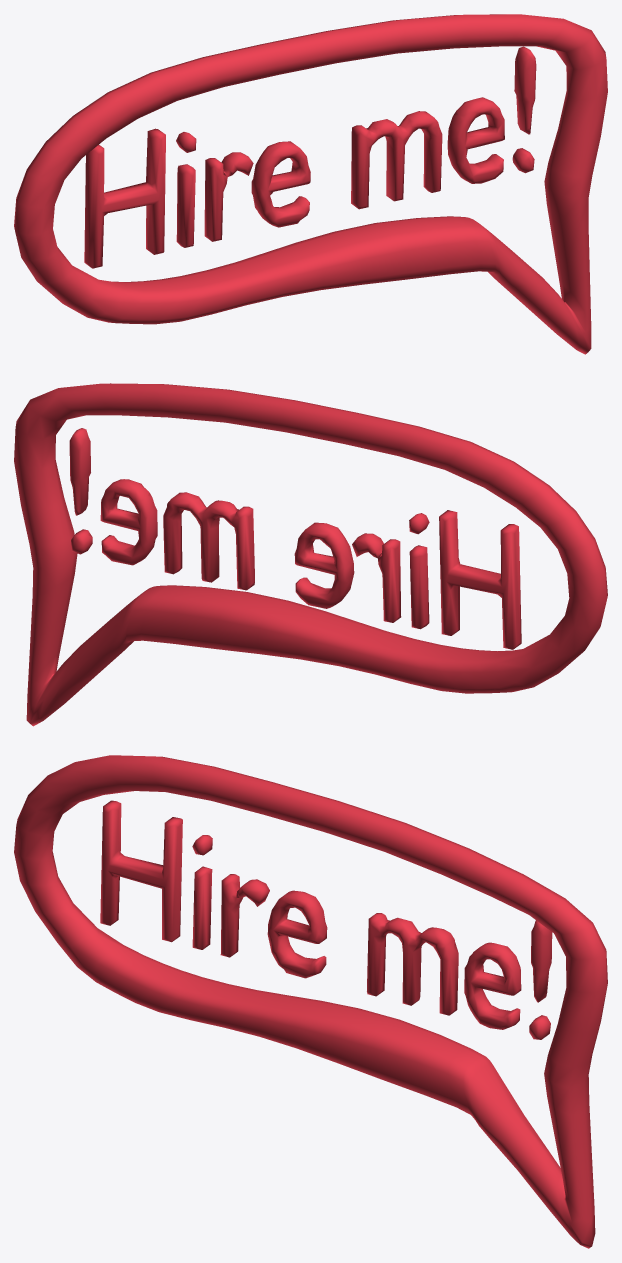
The model's file is Hire me Animation.fbx.
3 renders of one model, top to bottom at view 1: azimuth 30°, elevation 25°; view 2: azimuth 150°, elevation 25°; view 3: azimuth 330°, elevation 25°, orthographic.
Parts seen in each view (by area): view 1: Text; view 2: Text; view 3: Text.
Boxes of the visible parts, x1=… form: Text: x1=14, y1=14, x2=607, y2=354; Text: x1=14, y1=383, x2=607, y2=726; Text: x1=14, y1=755, x2=607, y2=1248.
Size of the model in its own units: 111 by 70.38 by 10.08.
